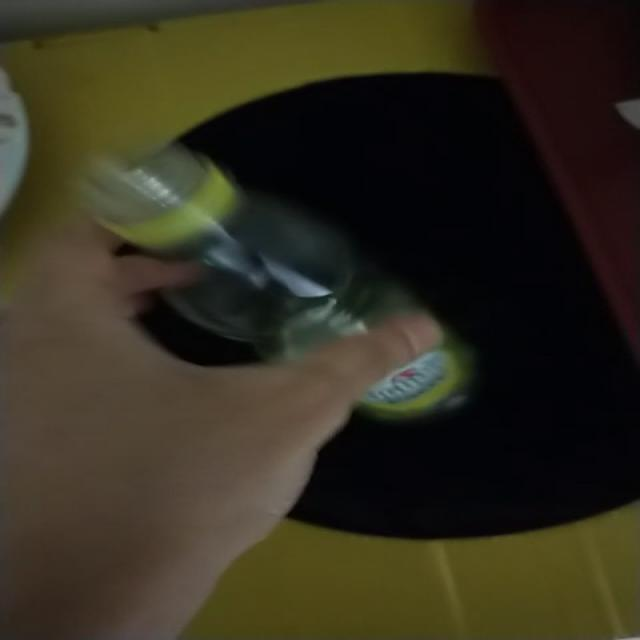plastic: (80, 143, 409, 360), (395, 349, 467, 416)
